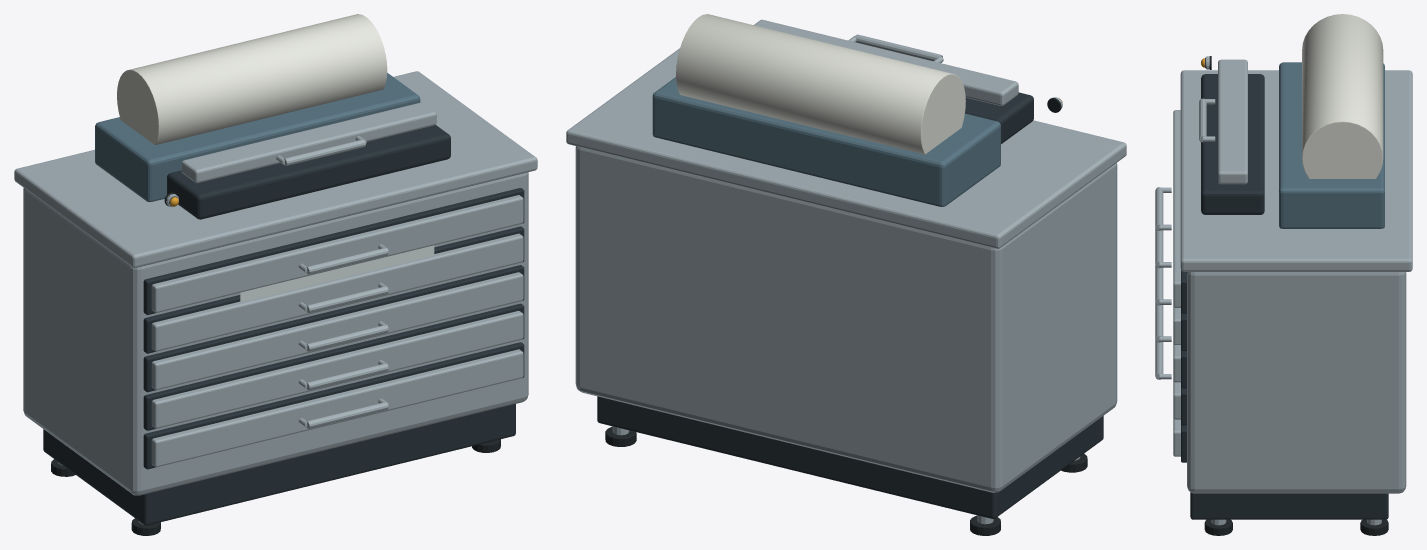
Rendered from OD_ContaminatedBagSealer.fbx.
3 views of the same model, side by side, from view 1: azimuth 30°, elevation 25°; view 2: azimuth 150°, elevation 25°; view 3: azimuth 270°, elevation 25° (orthographic). The views are drawn at different scales.
Parts seen in each view (by area): view 1: OD_ContaminatedBagSealer; view 2: OD_ContaminatedBagSealer; view 3: OD_ContaminatedBagSealer.
Boxes of the visible parts, x1,y1,x2,y2 form: OD_ContaminatedBagSealer: (14,14,537,535); OD_ContaminatedBagSealer: (566,14,1126,535); OD_ContaminatedBagSealer: (1155,14,1412,535).
Size of the model in its own units: 128 by 119 by 72.65.
